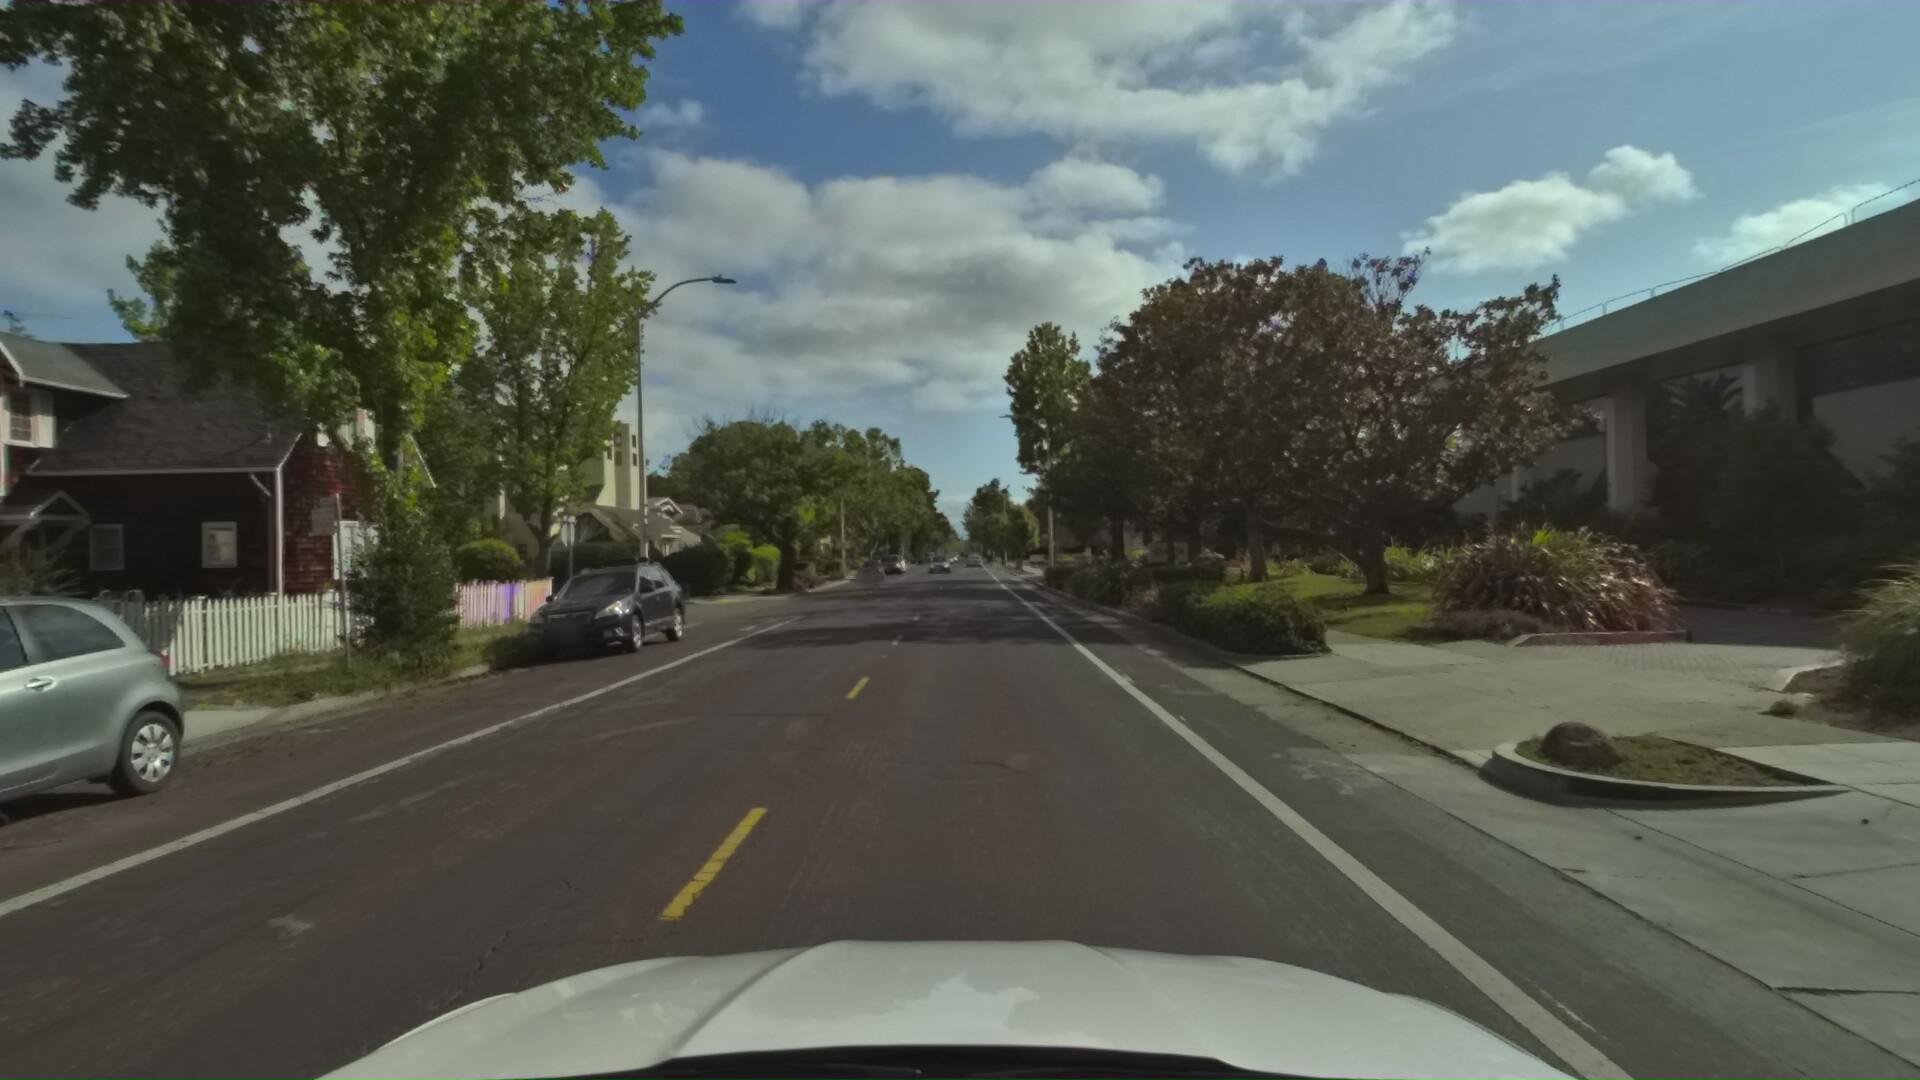car: (495, 556, 692, 675), (853, 559, 885, 583), (876, 554, 903, 579), (923, 555, 947, 575)
